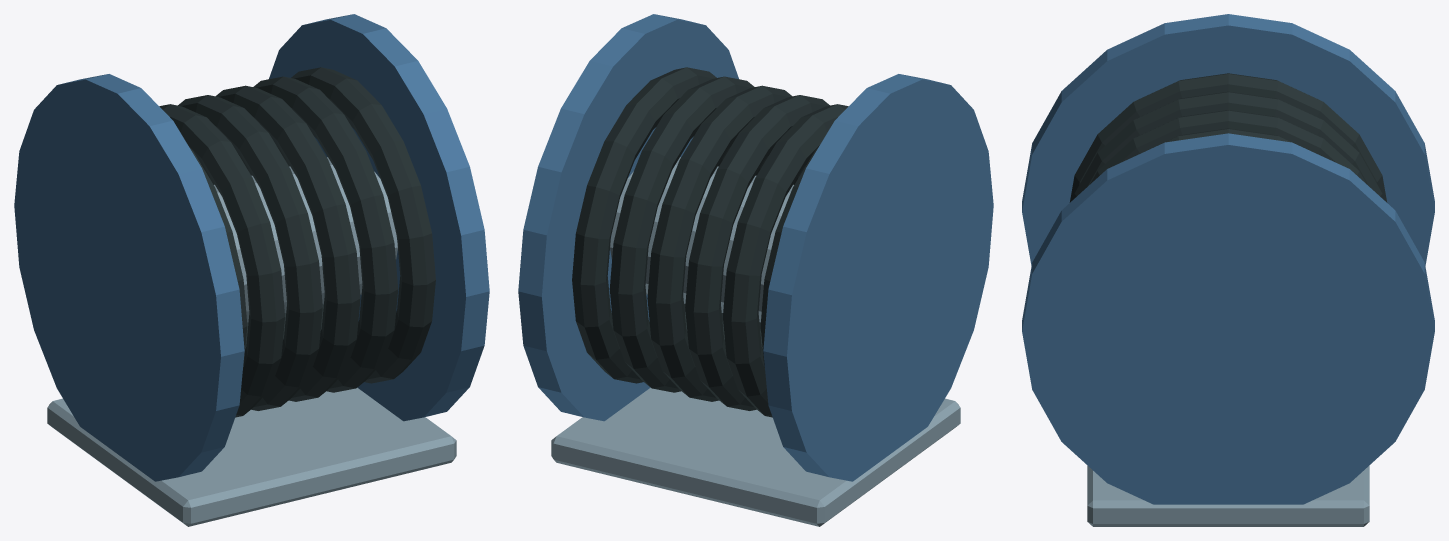
File: coiled_cable_reel.glb
3 views of the same model, side by side, from view 1: azimuth 30°, elevation 25°; view 2: azimuth 150°, elevation 25°; view 3: azimuth 270°, elevation 25° (orthographic).
Visible parts, largest first — view 1: reel_flange (×2), cable_wrap (×6), reel_foot, reel_core; view 2: reel_flange (×2), cable_wrap (×6), reel_foot, reel_core; view 3: reel_flange (×2), cable_wrap (×4), reel_foot.
Boxes of the visible parts, <box> form: reel_flange (×2): <box>14,14,489,481</box>; cable_wrap (×6): <box>159,67,435,417</box>; reel_foot: <box>47,387,456,526</box>; reel_core: <box>214,157,397,322</box>; reel_flange (×2): <box>518,14,993,481</box>; cable_wrap (×6): <box>572,67,848,417</box>; reel_foot: <box>551,387,960,526</box>; reel_core: <box>610,157,793,322</box>; reel_flange (×2): <box>1022,14,1434,504</box>; cable_wrap (×4): <box>1069,73,1387,202</box>; reel_foot: <box>1087,465,1369,526</box>.
Bounding box in the file's own units: 0.29 × 0.3895 × 0.38.
